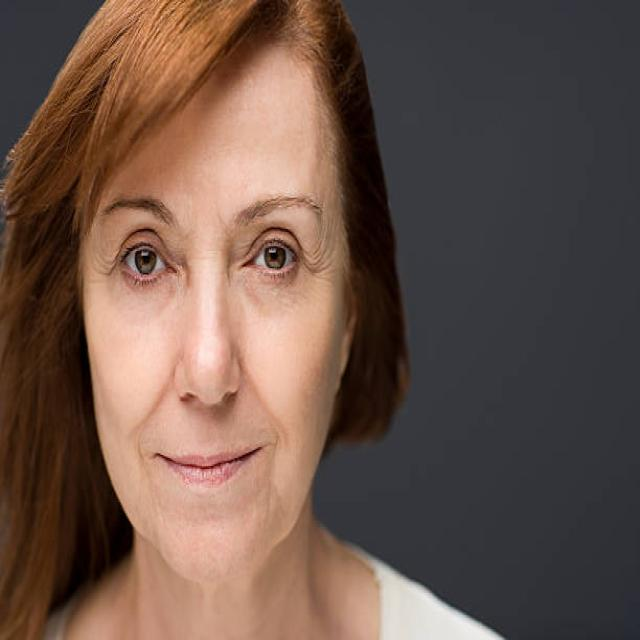Wrinkles: (320, 223, 329, 248), (95, 267, 116, 276), (314, 264, 331, 275), (307, 258, 324, 267), (101, 257, 119, 264), (312, 248, 320, 256), (305, 251, 312, 257)
